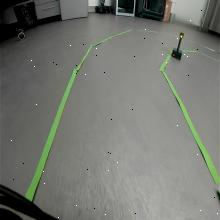green: (178, 31, 184, 40)
